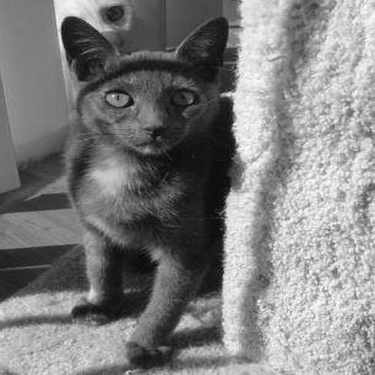cat: (60, 19, 229, 369), (52, 2, 134, 114)
